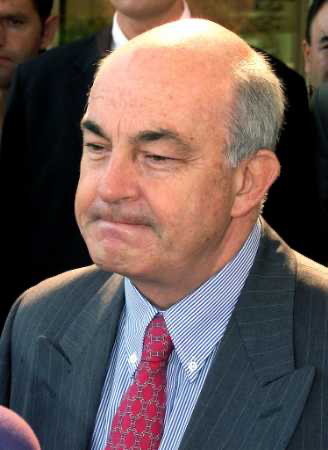Face: (69, 60, 233, 284), (0, 7, 39, 82), (296, 7, 328, 90)
